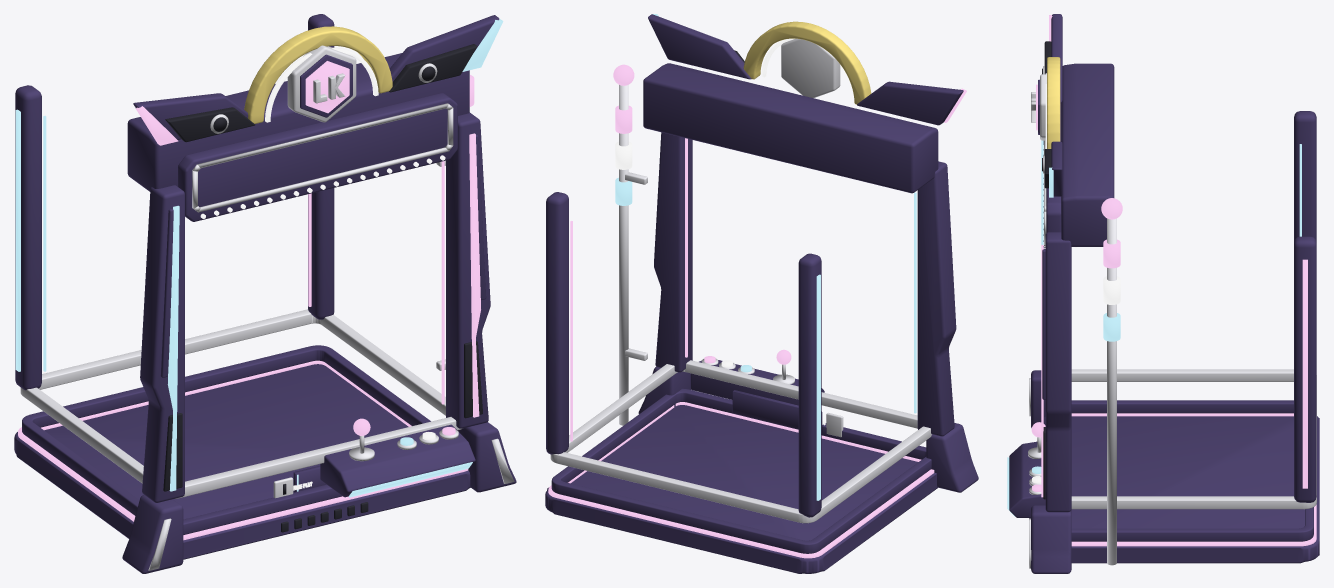
Rendered from claw-deco-foil.glb.
3 renders of one model, left to right at view 1: azimuth 30°, elevation 25°; view 2: azimuth 150°, elevation 25°; view 3: azimuth 270°, elevation 25°, orthographic. The views are drawn at different scales.
Parts seen in each view (by area): view 1: deco_foil; view 2: deco_foil; view 3: deco_foil.
Boxes of the visible parts, x1,y1,x2,y2 form: deco_foil: (14,14,516,573); deco_foil: (545,14,978,573); deco_foil: (1007,14,1319,573).
Size of the model in its own units: 8.52 by 10.57 by 6.95.
